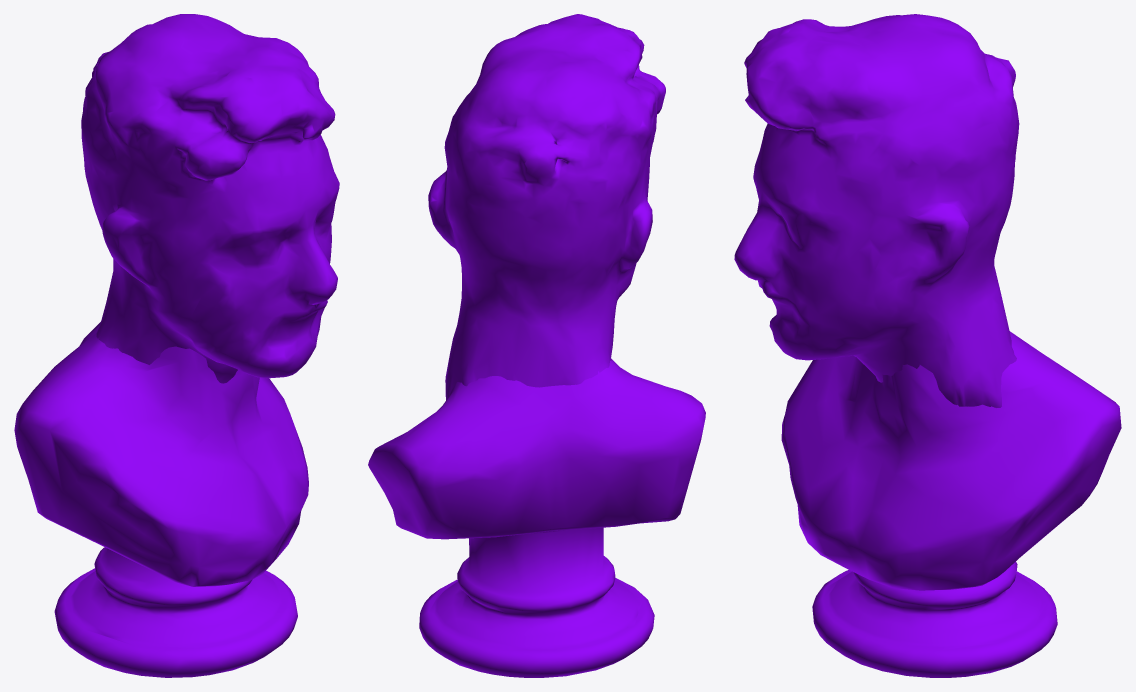
File: Statue_Venca_2.glb
The picture shows the model from 3 angles, left to right: view 1: azimuth 30°, elevation 25°; view 2: azimuth 150°, elevation 25°; view 3: azimuth 270°, elevation 25°; orthographic projection. The views are drawn at different scales.
Parts seen in each view (by area): view 1: Venca; view 2: Venca; view 3: Venca.
Part boxes in pixels (bbox=[...]): Venca: bbox=[14, 14, 339, 677]; Venca: bbox=[368, 14, 705, 677]; Venca: bbox=[734, 14, 1121, 677].
Size of the model in its own units: 0.1126 by 0.2143 by 0.1245.
